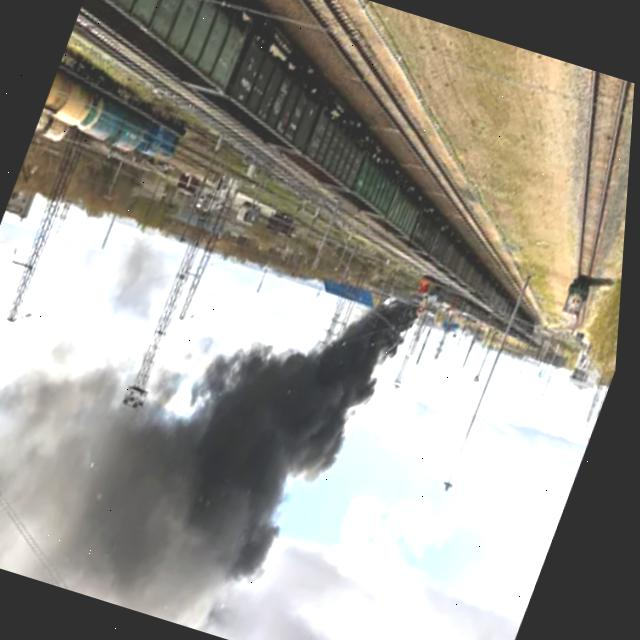Smoke: (41, 230, 430, 640)
